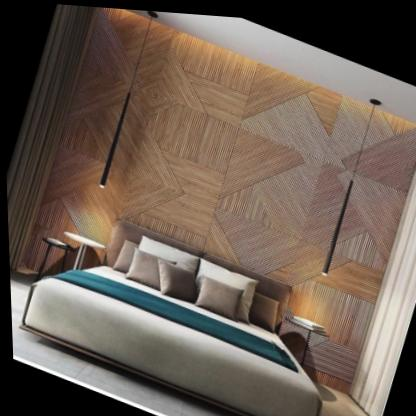Bed: (5, 180, 354, 416)
Ceramic floor: (8, 282, 247, 416)
Curtains: (5, 3, 95, 272)
Wall Panel: (32, 2, 416, 325)
